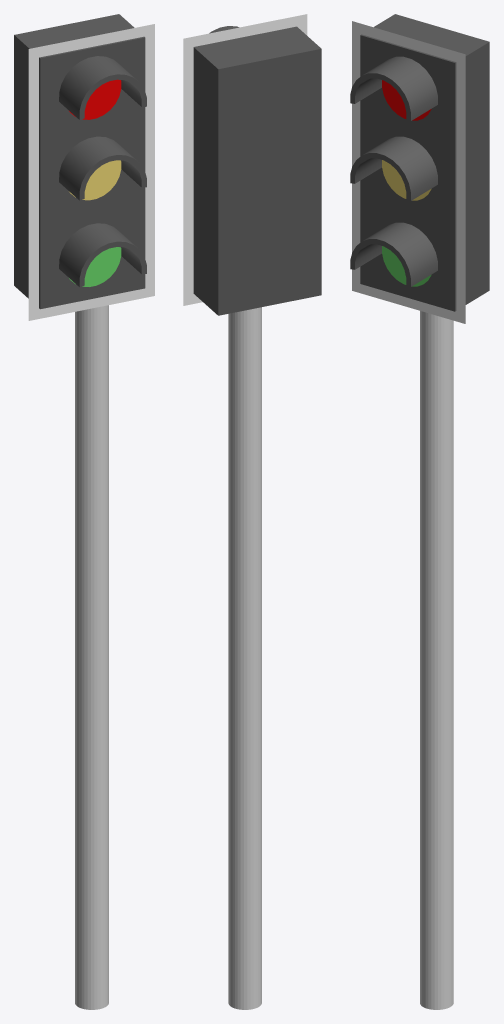
Rendered from signal_final.dae.
The picture shows the model from 3 angles, left to right: view 1: azimuth 30°, elevation 25°; view 2: azimuth 210°, elevation 25°; view 3: azimuth 330°, elevation 25°; orthographic projection.
Parts seen in each view (by area): view 1: Cylinder, instance_0_003, instance_0_004, instance_0_001, instance_0, instance_0_002, instance_0_007, instance_0_005, instance_0_006; view 2: instance_0_003, Cylinder, instance_0_004; view 3: Cylinder, instance_0_003, instance_0_004, instance_0_002, instance_0, instance_0_001, instance_0_006, instance_0_007, instance_0_005.
Boxes of the visible parts, x1,y1,x2,y2 form: Cylinder: [75, 305, 108, 1009]; instance_0_003: [14, 14, 145, 309]; instance_0_004: [28, 24, 154, 320]; instance_0_001: [59, 223, 146, 287]; instance_0: [59, 136, 146, 200]; instance_0_002: [59, 56, 146, 119]; instance_0_007: [69, 160, 121, 200]; instance_0_005: [69, 79, 121, 119]; instance_0_006: [69, 247, 121, 286]; instance_0_003: [193, 26, 321, 315]; Cylinder: [228, 307, 261, 1009]; instance_0_004: [183, 14, 307, 305]; Cylinder: [420, 311, 453, 1009]; instance_0_003: [360, 14, 489, 311]; instance_0_004: [352, 21, 465, 323]; instance_0_002: [350, 56, 437, 120]; instance_0: [350, 136, 437, 200]; instance_0_001: [350, 222, 437, 286]; instance_0_006: [382, 246, 431, 286]; instance_0_007: [382, 160, 431, 200]; instance_0_005: [382, 80, 431, 120].
Size of the model in its own units: 0.4071 by 0.3422 by 3.16.
